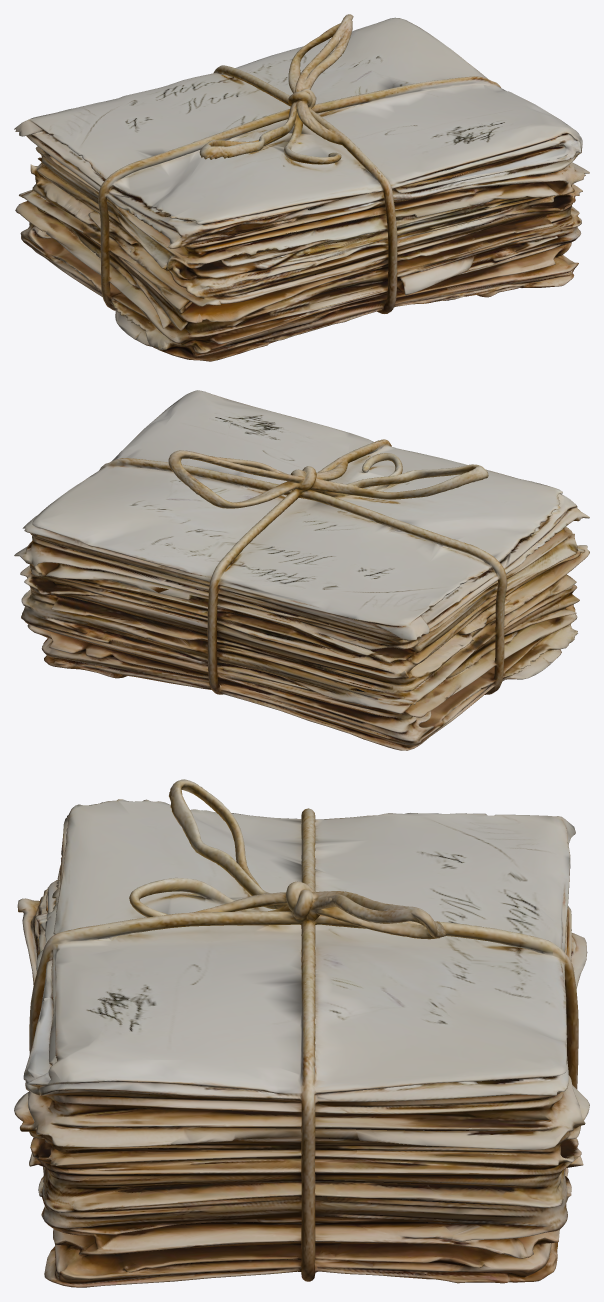
File: paper.fbx
3 renders of one model, top to bottom at view 1: azimuth 30°, elevation 25°; view 2: azimuth 150°, elevation 25°; view 3: azimuth 270°, elevation 25°, orthographic. The views are drawn at different scales.
Parts seen in each view (by area): view 1: tripo_node_ccf29d1b; view 2: tripo_node_ccf29d1b; view 3: tripo_node_ccf29d1b.
Boxes of the visible parts, left/top/right/bottom form: tripo_node_ccf29d1b: left=14, top=14, right=589, bottom=361; tripo_node_ccf29d1b: left=14, top=390, right=589, bottom=750; tripo_node_ccf29d1b: left=14, top=779, right=589, bottom=1287.
Bounding box in the file's own units: 98.1 × 78.71 × 46.37.
1 material, 1 textured.
